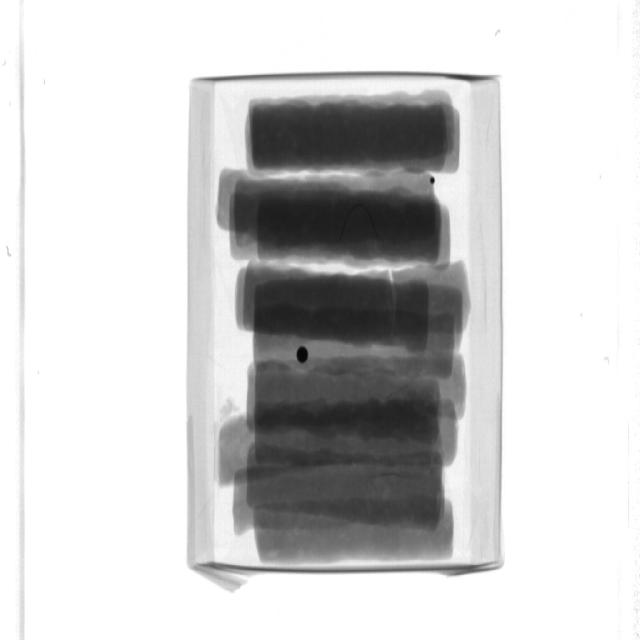ym: (297, 347, 309, 364), (430, 177, 437, 185)
